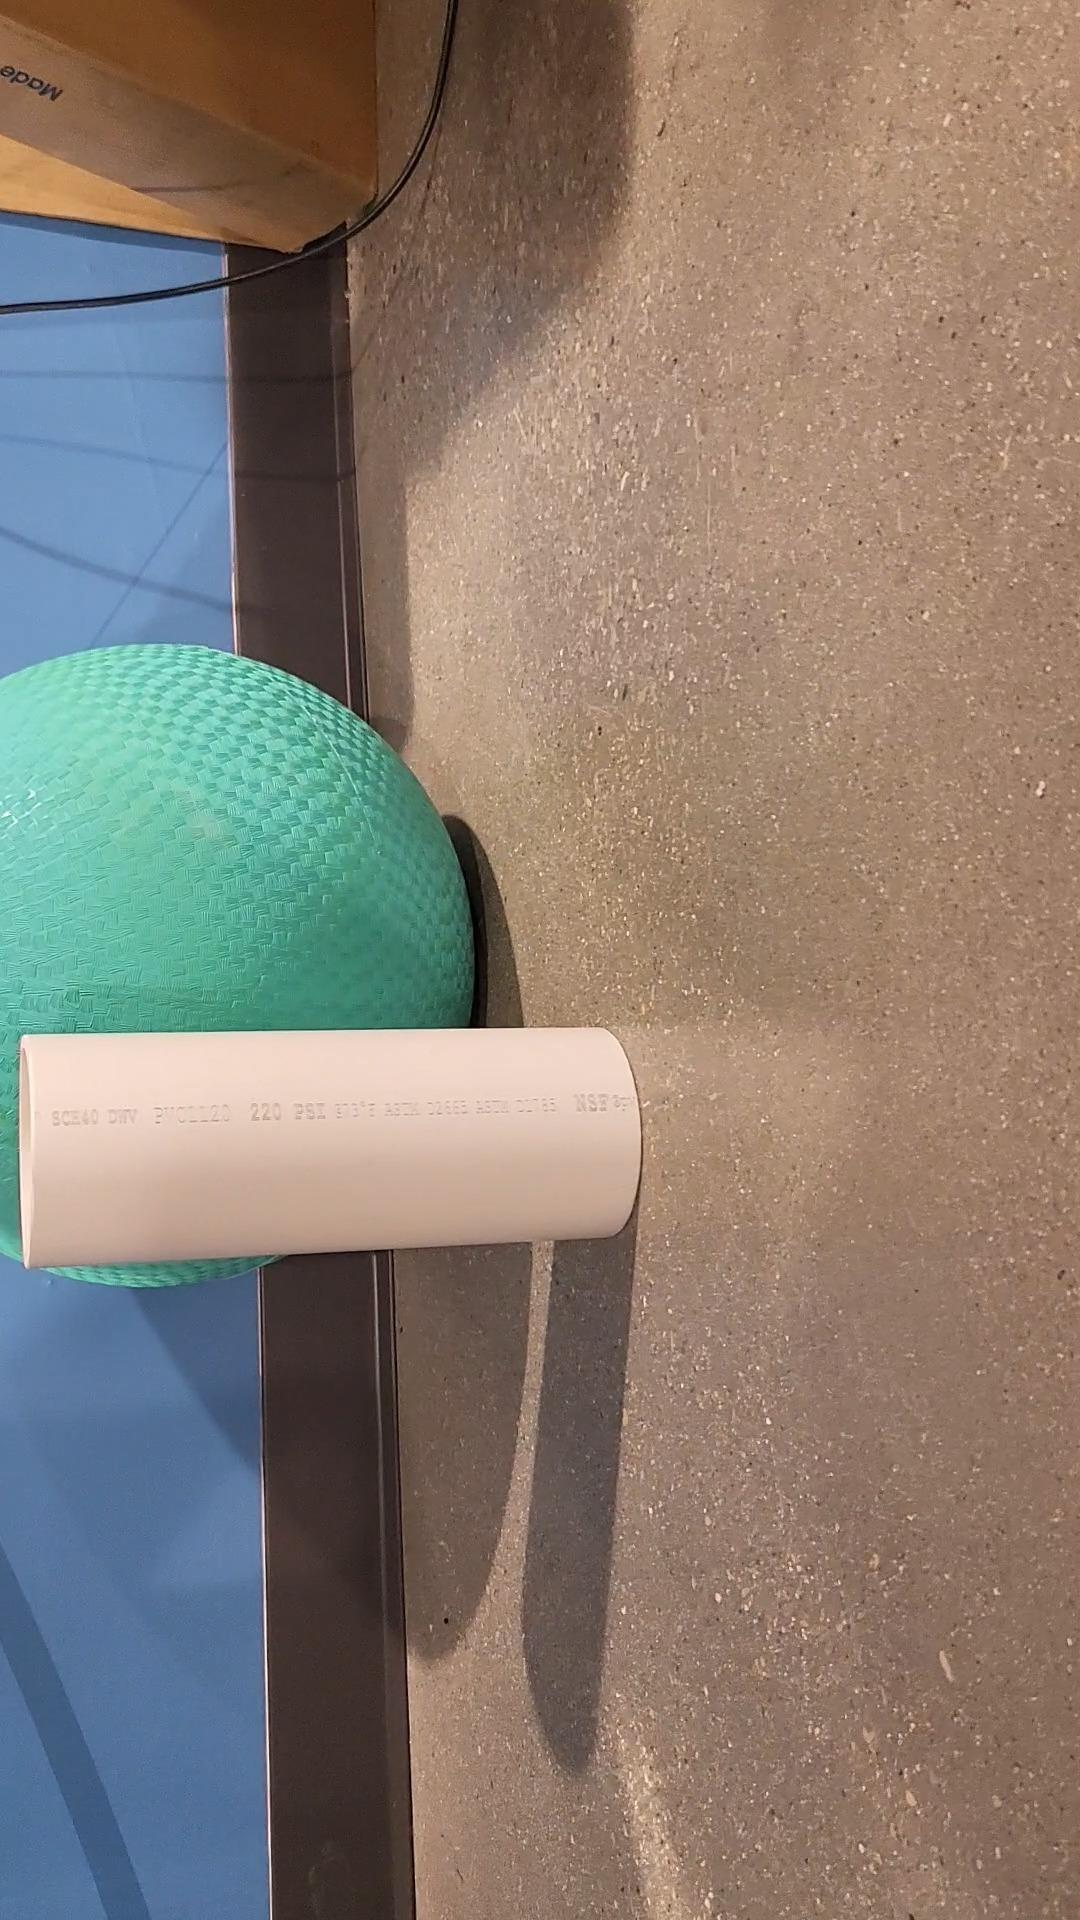algae: (0, 646, 477, 1288)
coral: (22, 1027, 640, 1274)
